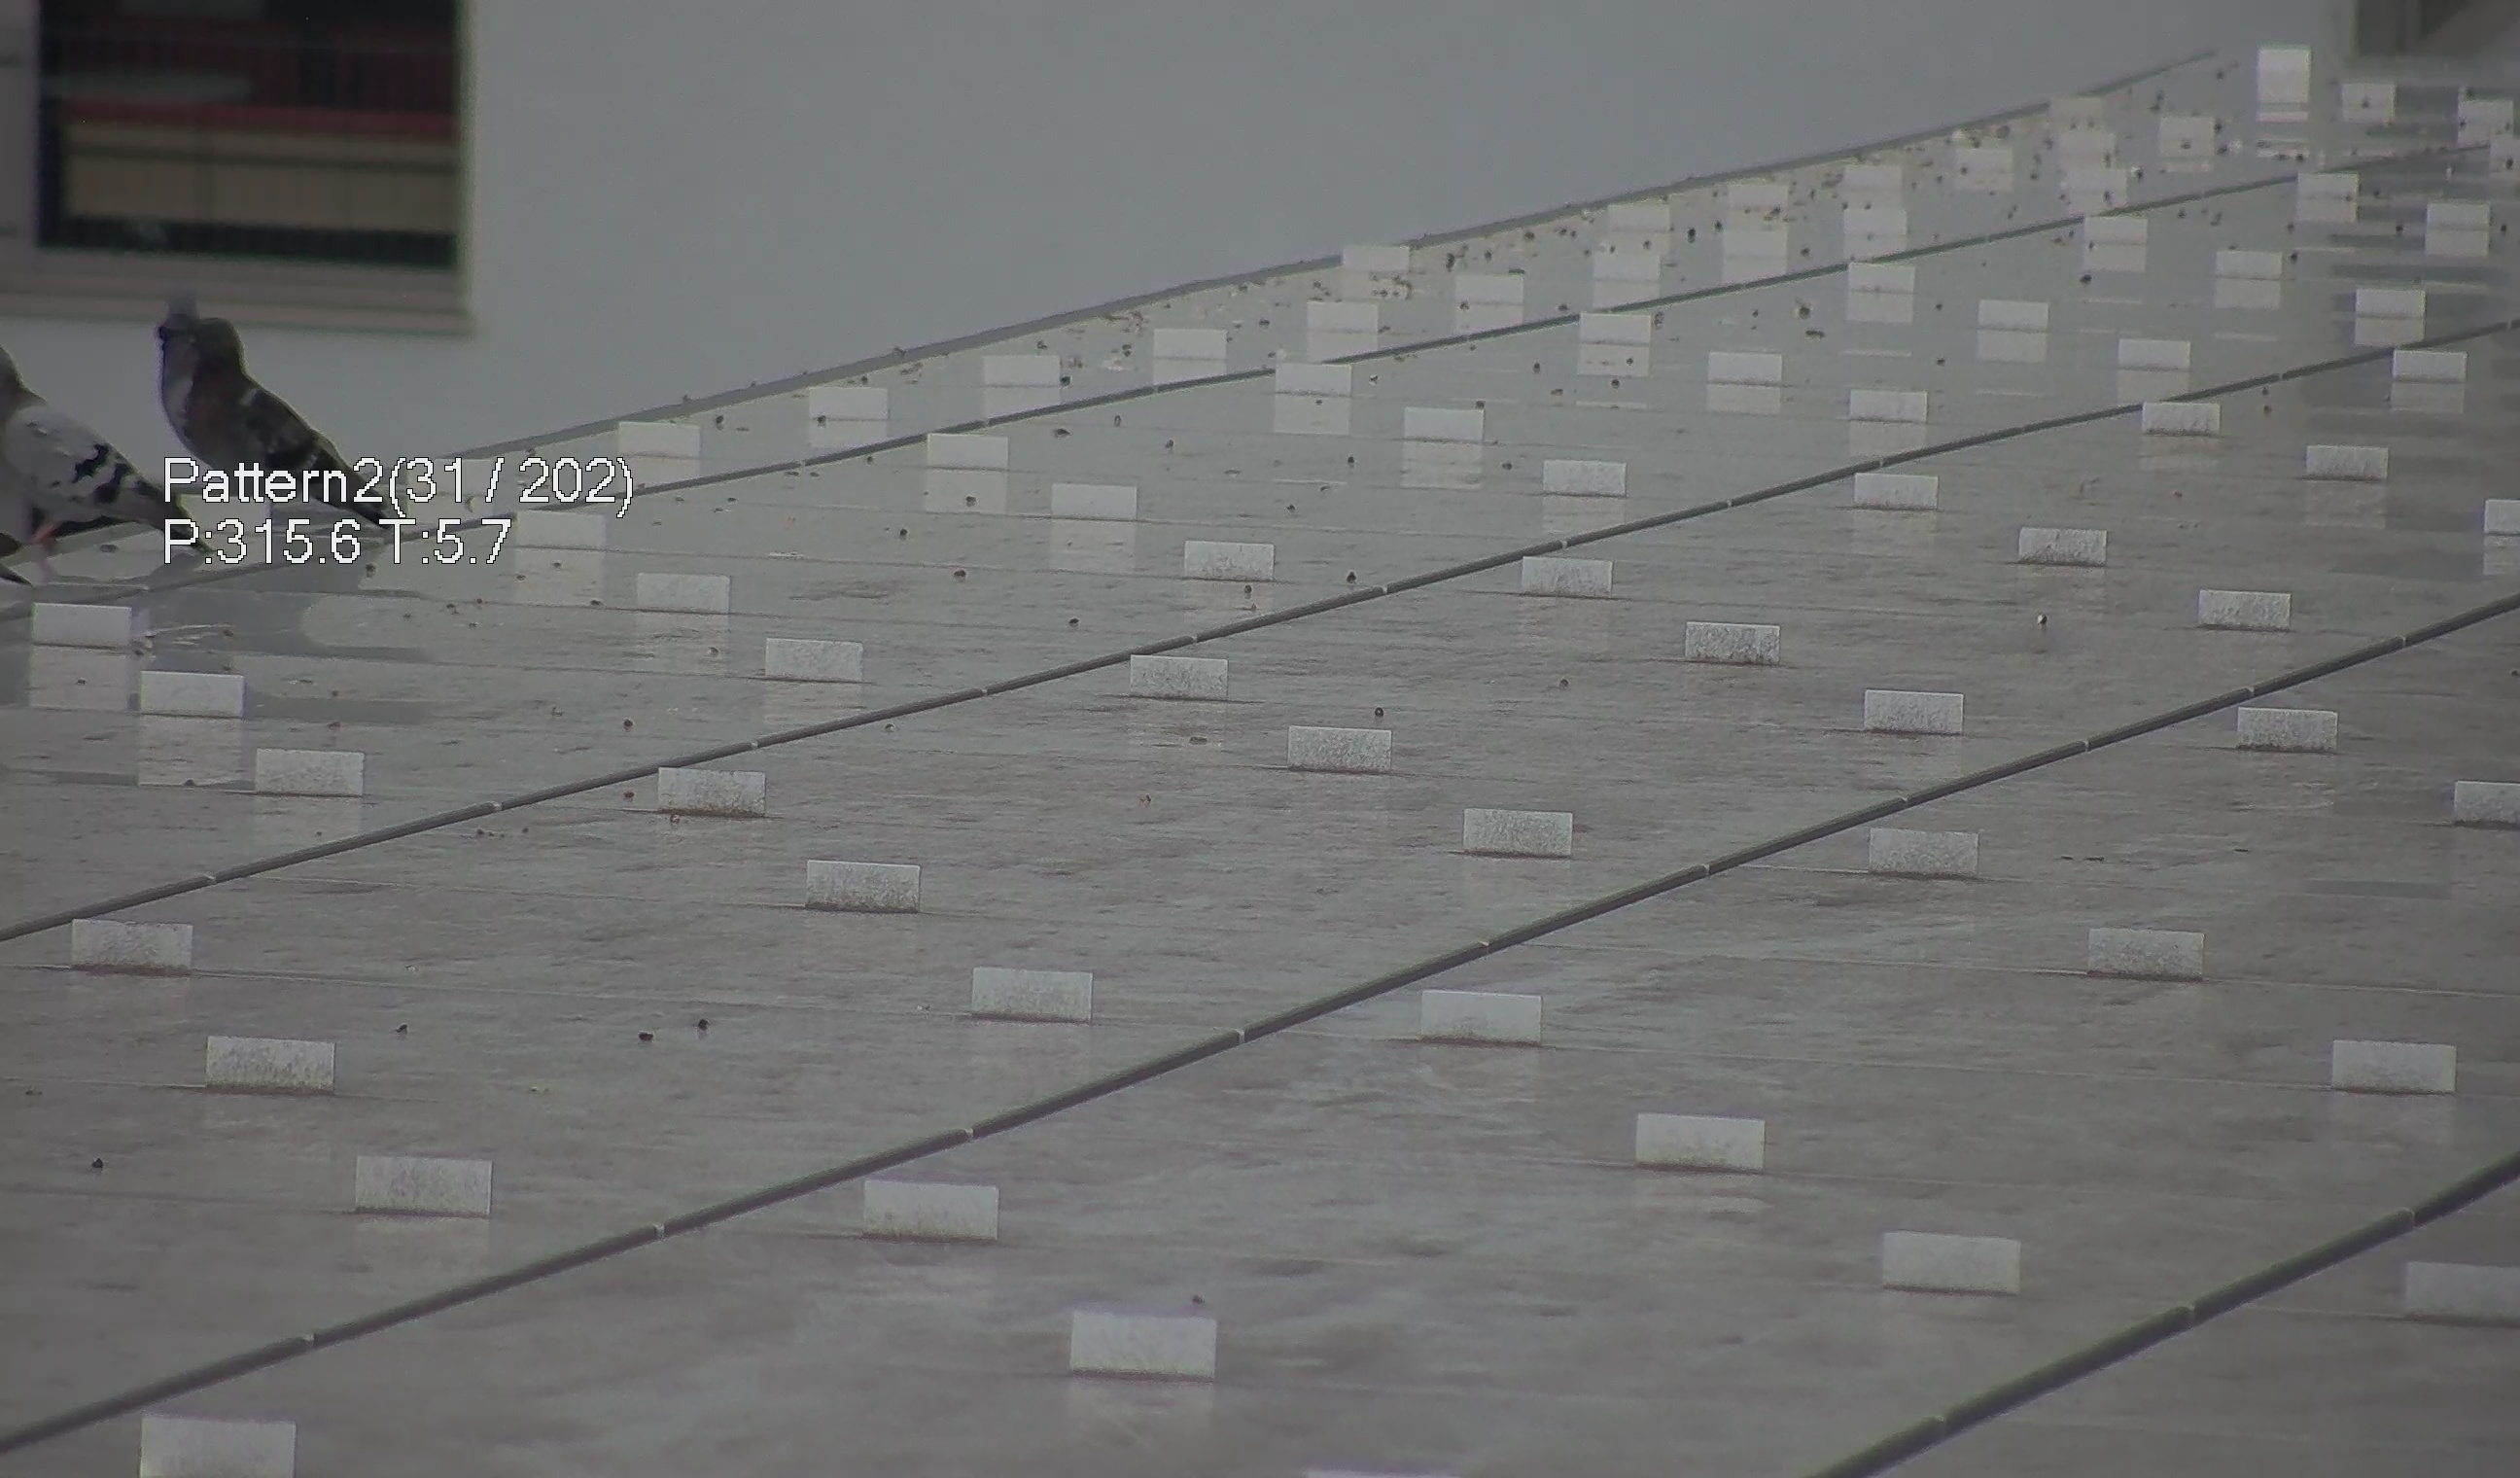Pigeon: (2, 334, 251, 586), (144, 292, 355, 498)
